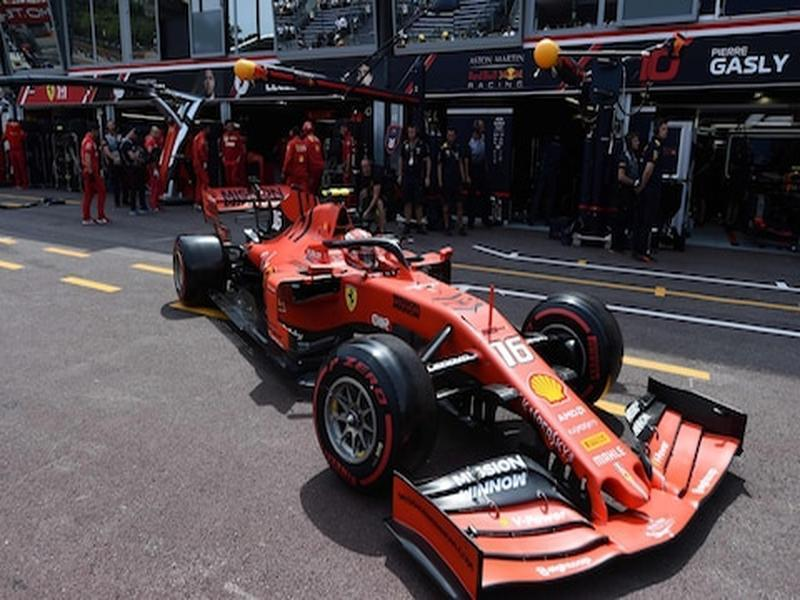f1: (164, 186, 762, 583)
